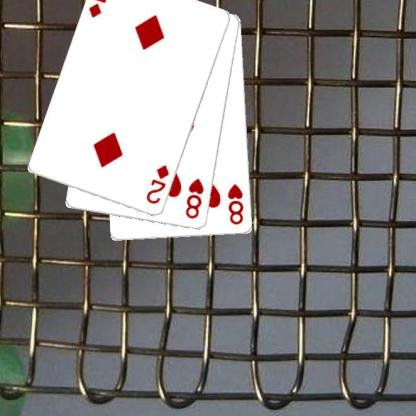2D: (144, 162, 170, 206), (86, 0, 113, 19)
8H: (183, 176, 205, 221), (225, 181, 246, 226)
